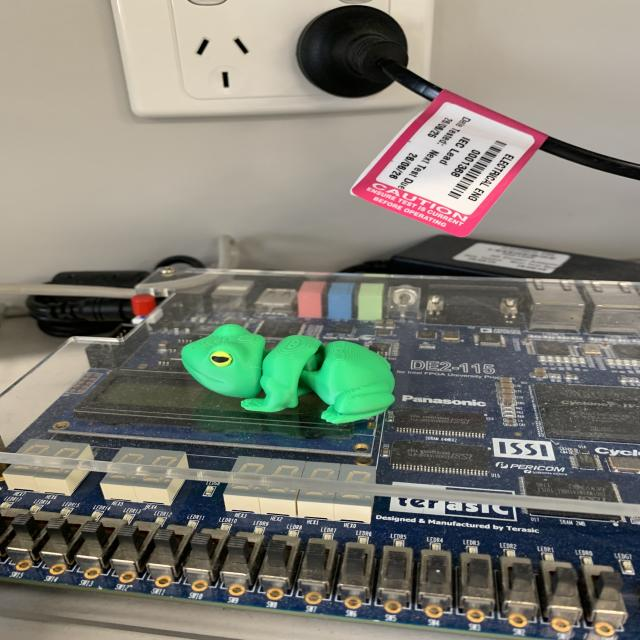frog: (161, 315, 409, 431)
